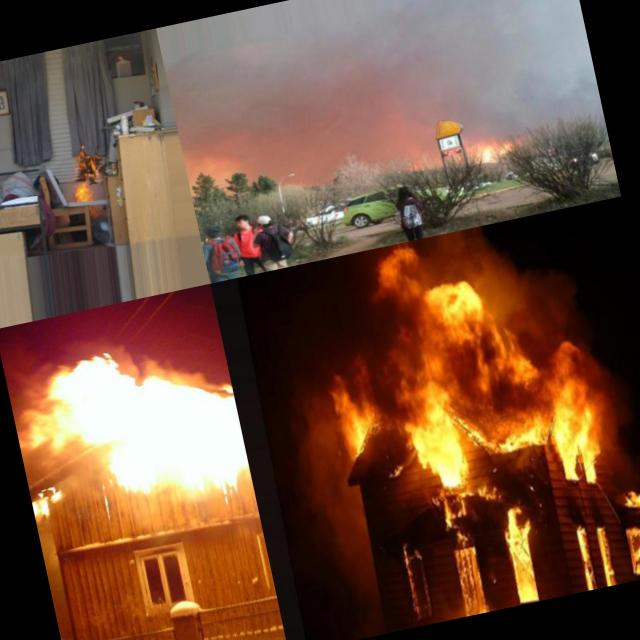fire: (2, 321, 252, 529), (392, 376, 472, 495), (531, 358, 606, 484), (416, 266, 497, 342), (321, 374, 382, 462), (490, 498, 544, 570), (574, 514, 622, 590), (436, 481, 504, 534), (444, 545, 491, 618), (366, 242, 421, 304), (398, 536, 438, 616), (492, 414, 547, 470), (611, 480, 640, 581), (502, 328, 540, 387), (67, 146, 104, 204), (418, 334, 448, 380), (476, 136, 501, 166), (384, 458, 408, 482)
smoke: (440, 327, 520, 429), (374, 294, 426, 388), (582, 354, 627, 454), (360, 343, 400, 430), (550, 331, 586, 365)
